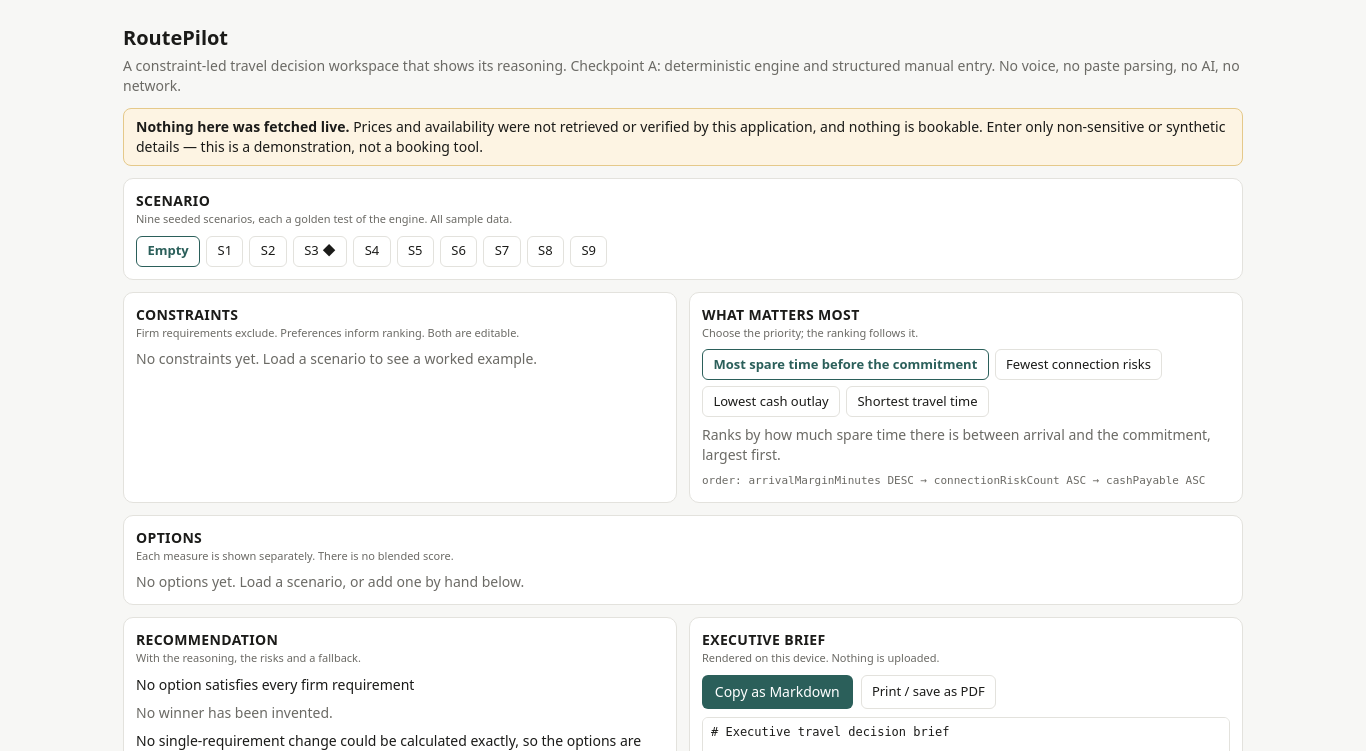
Test case: the deterministic workflow when AI is unavailable › switching the priority rule re-ranks, with no AI involvement at all
Click the button "S1" at (225, 251), box [206,236,244,267]
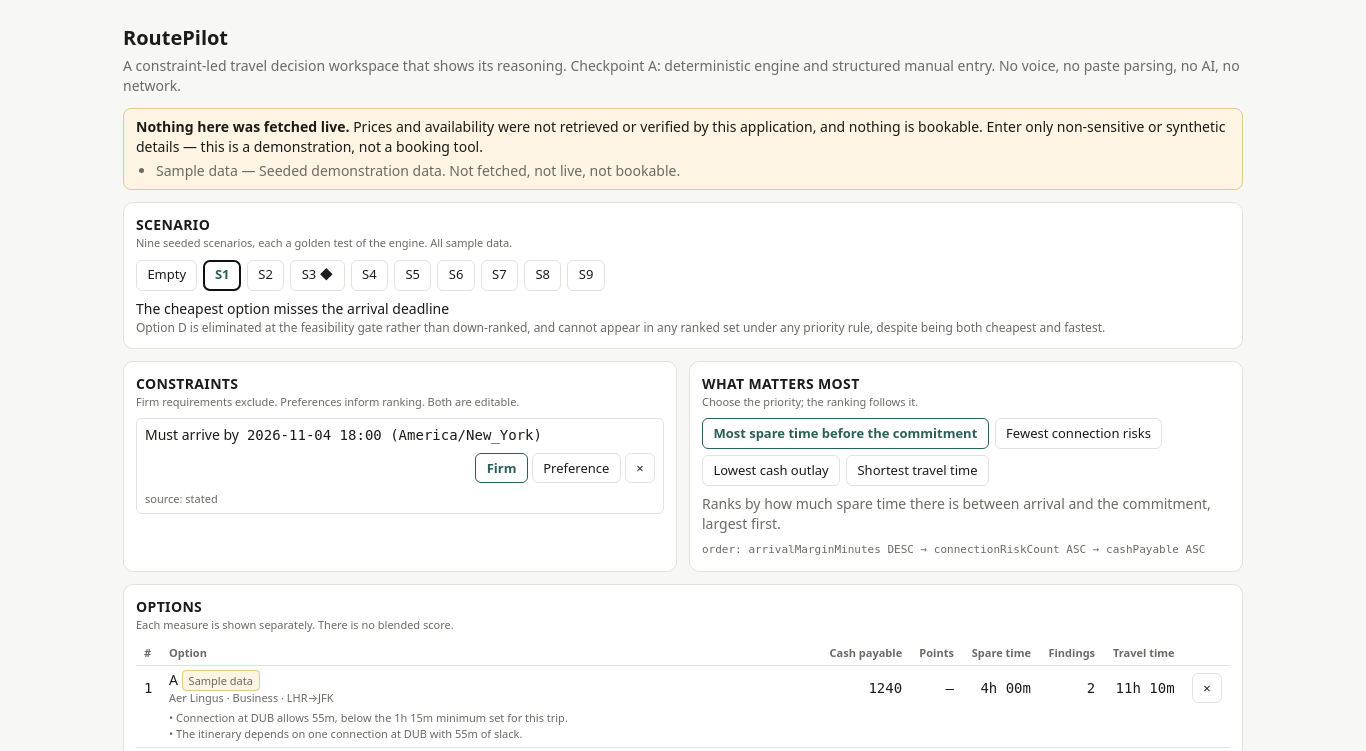
Check: the text "The cheapest option misses the arrival deadline" is shown, box [136,299,449,318]
Click the button "Lowest cash outlay" at (771, 471), box [702,455,840,486]
(page scrolled)
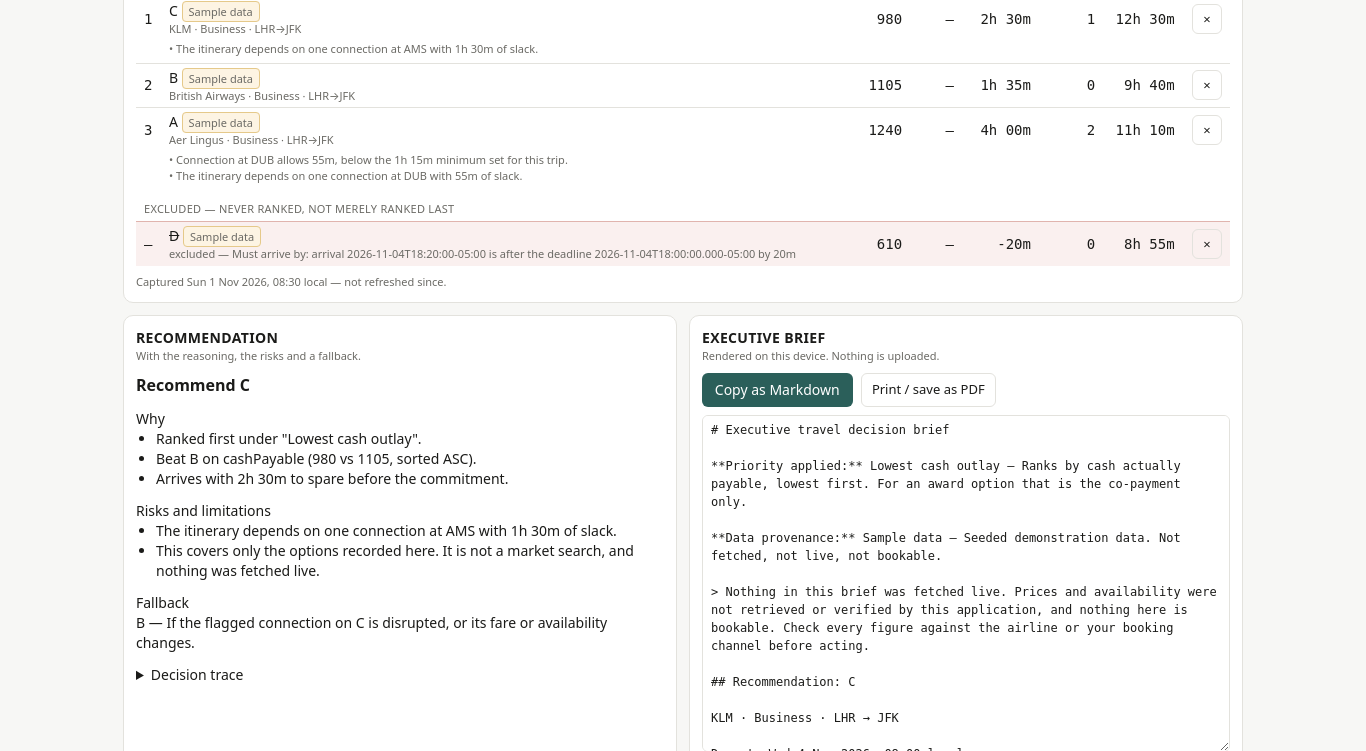
Check: the heading "Recommend C" is shown, box [136,374,250,396]
